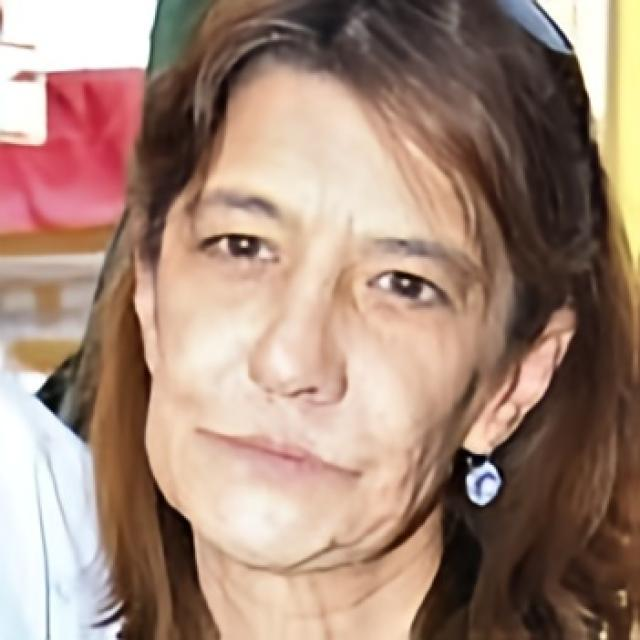content: (144, 56, 514, 572)
